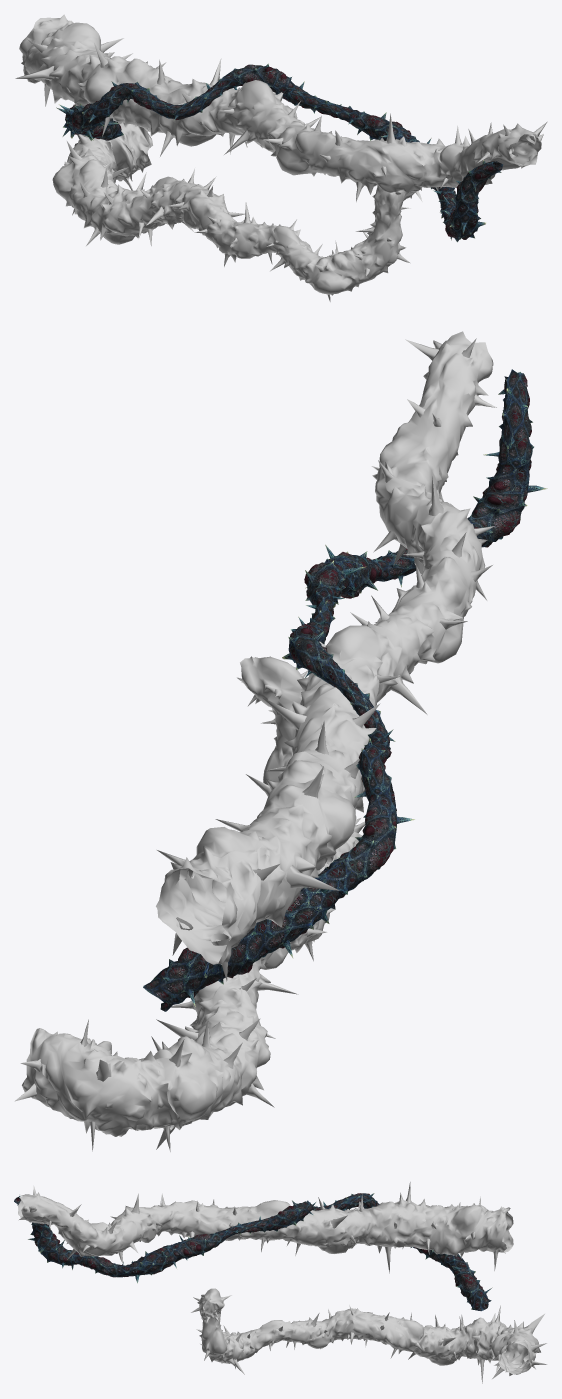
Rendered from backup.fbx.
The picture shows the model from 3 angles, top to bottom: view 1: azimuth 30°, elevation 25°; view 2: azimuth 150°, elevation 25°; view 3: azimuth 270°, elevation 25°; orthographic projection. The views are drawn at different scales.
Parts seen in each view (by area): view 1: LODGroup_1_MainMesh_1_SubMesh_1, LODGroup_1_MainMesh_1_SubMesh_2; view 2: LODGroup_1_MainMesh_1_SubMesh_1, LODGroup_1_MainMesh_1_SubMesh_2; view 3: LODGroup_1_MainMesh_1_SubMesh_1, LODGroup_1_MainMesh_1_SubMesh_2.
Part boxes in pixels (x1,y1,x2,y2): LODGroup_1_MainMesh_1_SubMesh_1: [15, 14, 547, 301]; LODGroup_1_MainMesh_1_SubMesh_2: [56, 63, 503, 242]; LODGroup_1_MainMesh_1_SubMesh_1: [14, 331, 496, 1151]; LODGroup_1_MainMesh_1_SubMesh_2: [143, 369, 547, 1011]; LODGroup_1_MainMesh_1_SubMesh_1: [18, 1182, 546, 1383]; LODGroup_1_MainMesh_1_SubMesh_2: [14, 1193, 492, 1311].
Bounding box in the file's own units: 1119 × 1376 × 2887.
